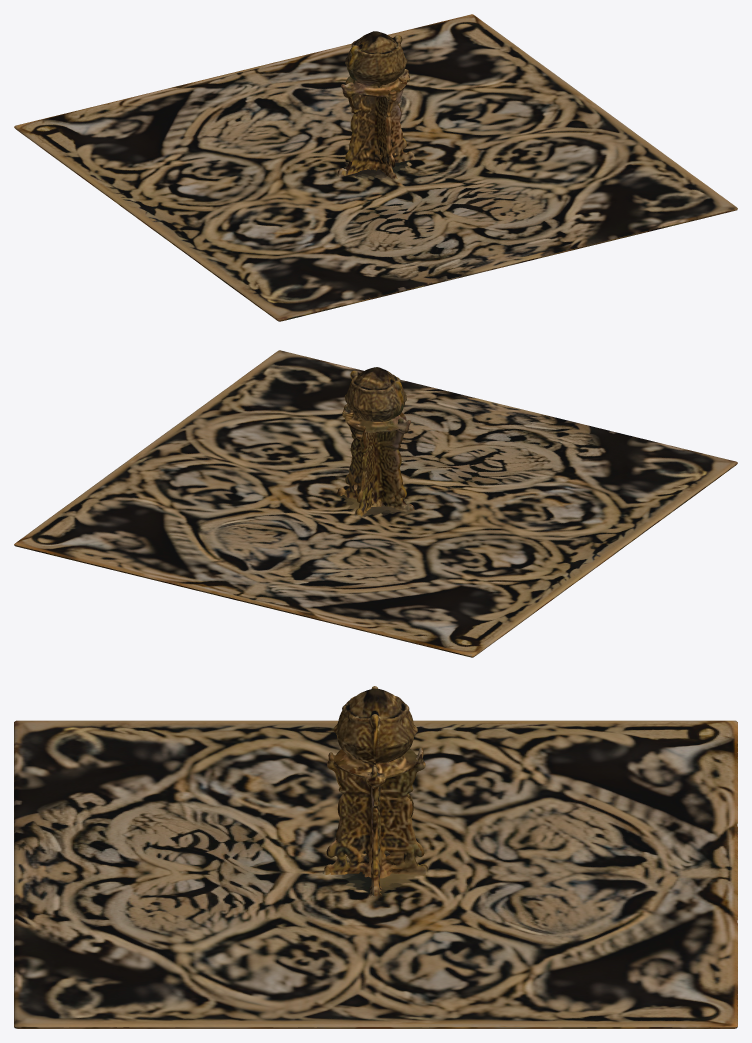
3 renders of one model, top to bottom at view 1: azimuth 30°, elevation 25°; view 2: azimuth 150°, elevation 25°; view 3: azimuth 270°, elevation 25°, orthographic. The views are drawn at different scales.
Visible parts, largest first — view 1: textured_mesh; view 2: textured_mesh; view 3: textured_mesh.
Boxes of the visible parts, bbox=[...] form: textured_mesh: bbox=[14, 14, 737, 321]; textured_mesh: bbox=[14, 350, 737, 657]; textured_mesh: bbox=[14, 686, 737, 1028].
Size of the model in its own units: 1.99 by 0.5728 by 1.99.
1 material, 1 textured.
